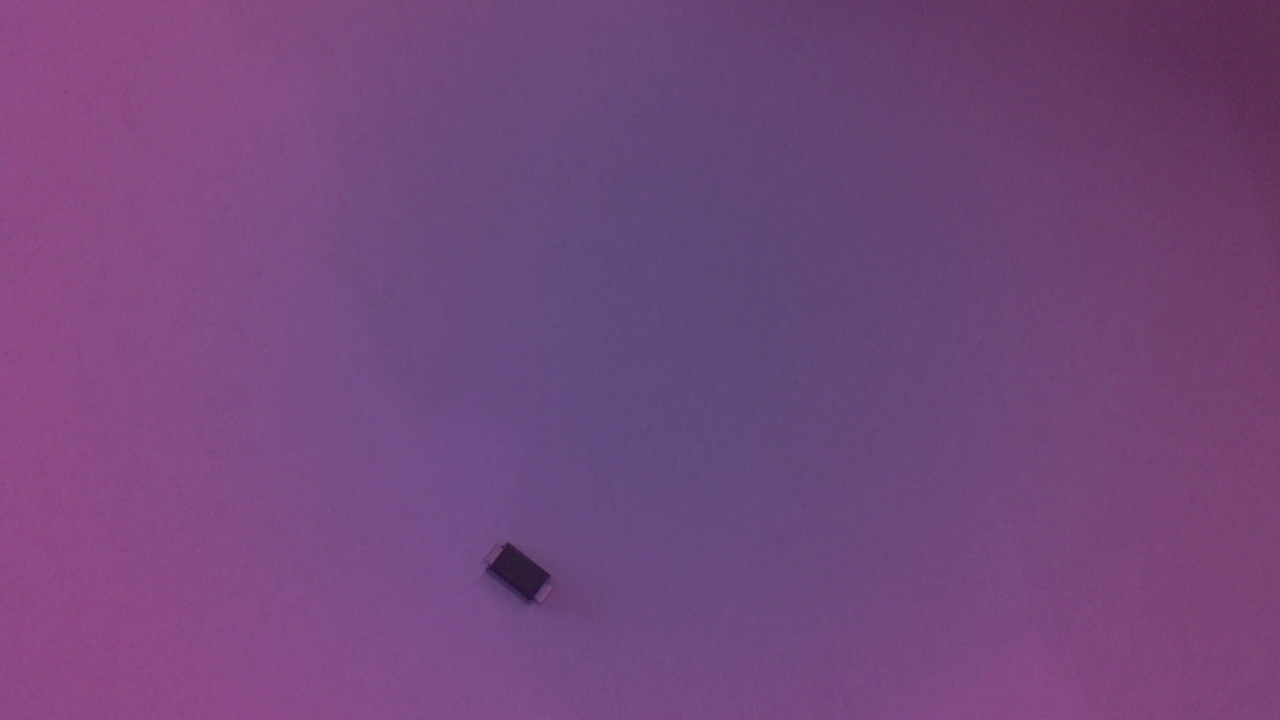Diode: (485, 541, 564, 616)
